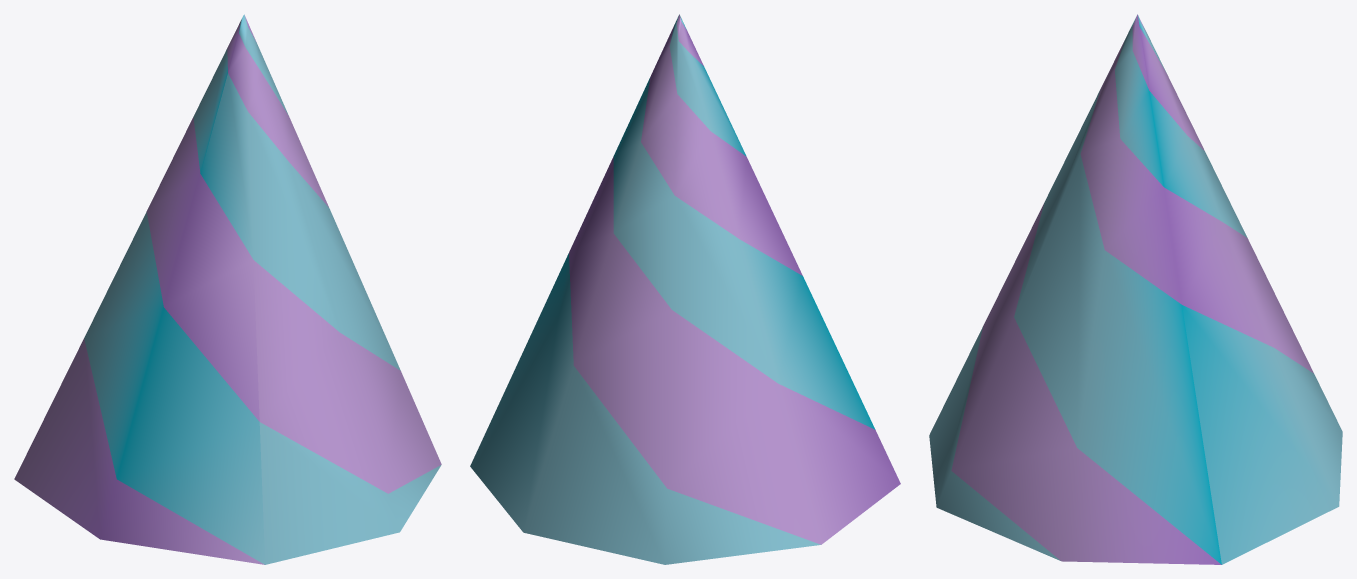
File: hatC.glb
3 views of the same model, side by side, from view 1: azimuth 30°, elevation 25°; view 2: azimuth 150°, elevation 25°; view 3: azimuth 270°, elevation 25° (orthographic).
Parts seen in each view (by area): view 1: hatC; view 2: hatC; view 3: hatC.
Part boxes in pixels (left/top/right/bottom): hatC: left=14, top=14, right=441, bottom=564; hatC: left=470, top=14, right=900, bottom=564; hatC: left=929, top=14, right=1342, bottom=564.
Bounding box in the file's own units: 0.245 × 0.3062 × 0.245.
